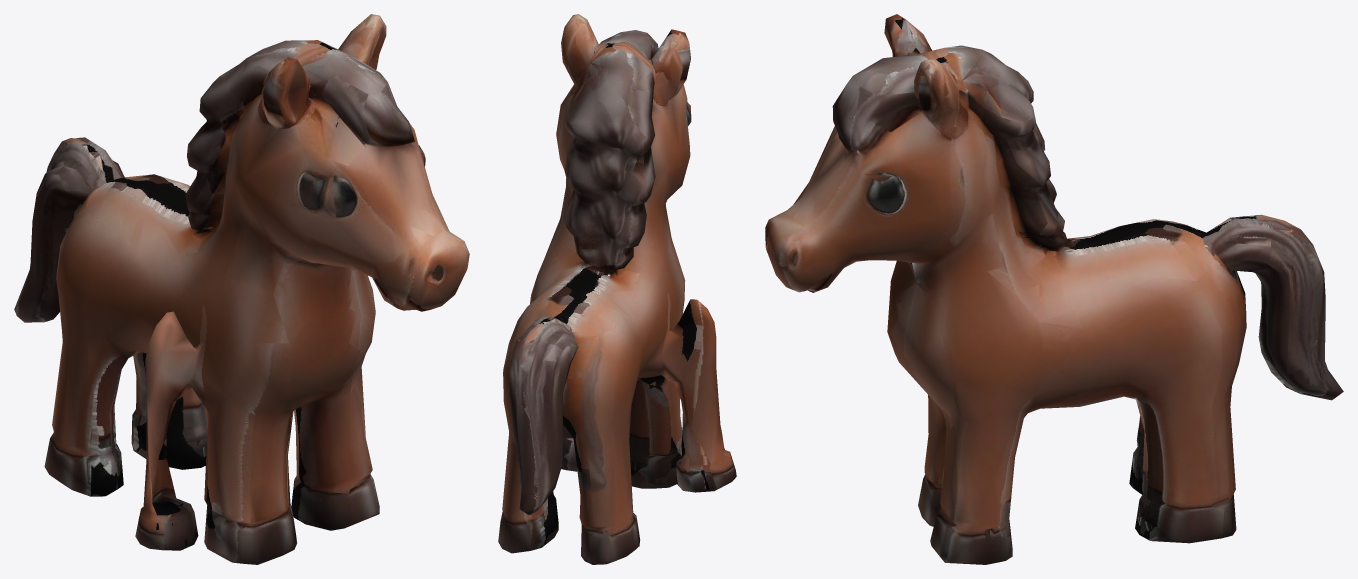
The model's file is horse-low.glb.
The picture shows the model from 3 angles, left to right: view 1: azimuth 30°, elevation 25°; view 2: azimuth 150°, elevation 25°; view 3: azimuth 270°, elevation 25°; orthographic projection. The views are drawn at different scales.
Parts seen in each view (by area): view 1: horse_LOD1; view 2: horse_LOD1; view 3: horse_LOD1.
Part boxes in pixels (x1=…): horse_LOD1: x1=14, y1=14, x2=469, y2=564; horse_LOD1: x1=498, y1=14, x2=736, y2=564; horse_LOD1: x1=765, y1=14, x2=1343, y2=564.
Size of the model in its own units: 0.4482 by 0.9391 by 0.9709.
Materials: 1 (1 with a texture image).
